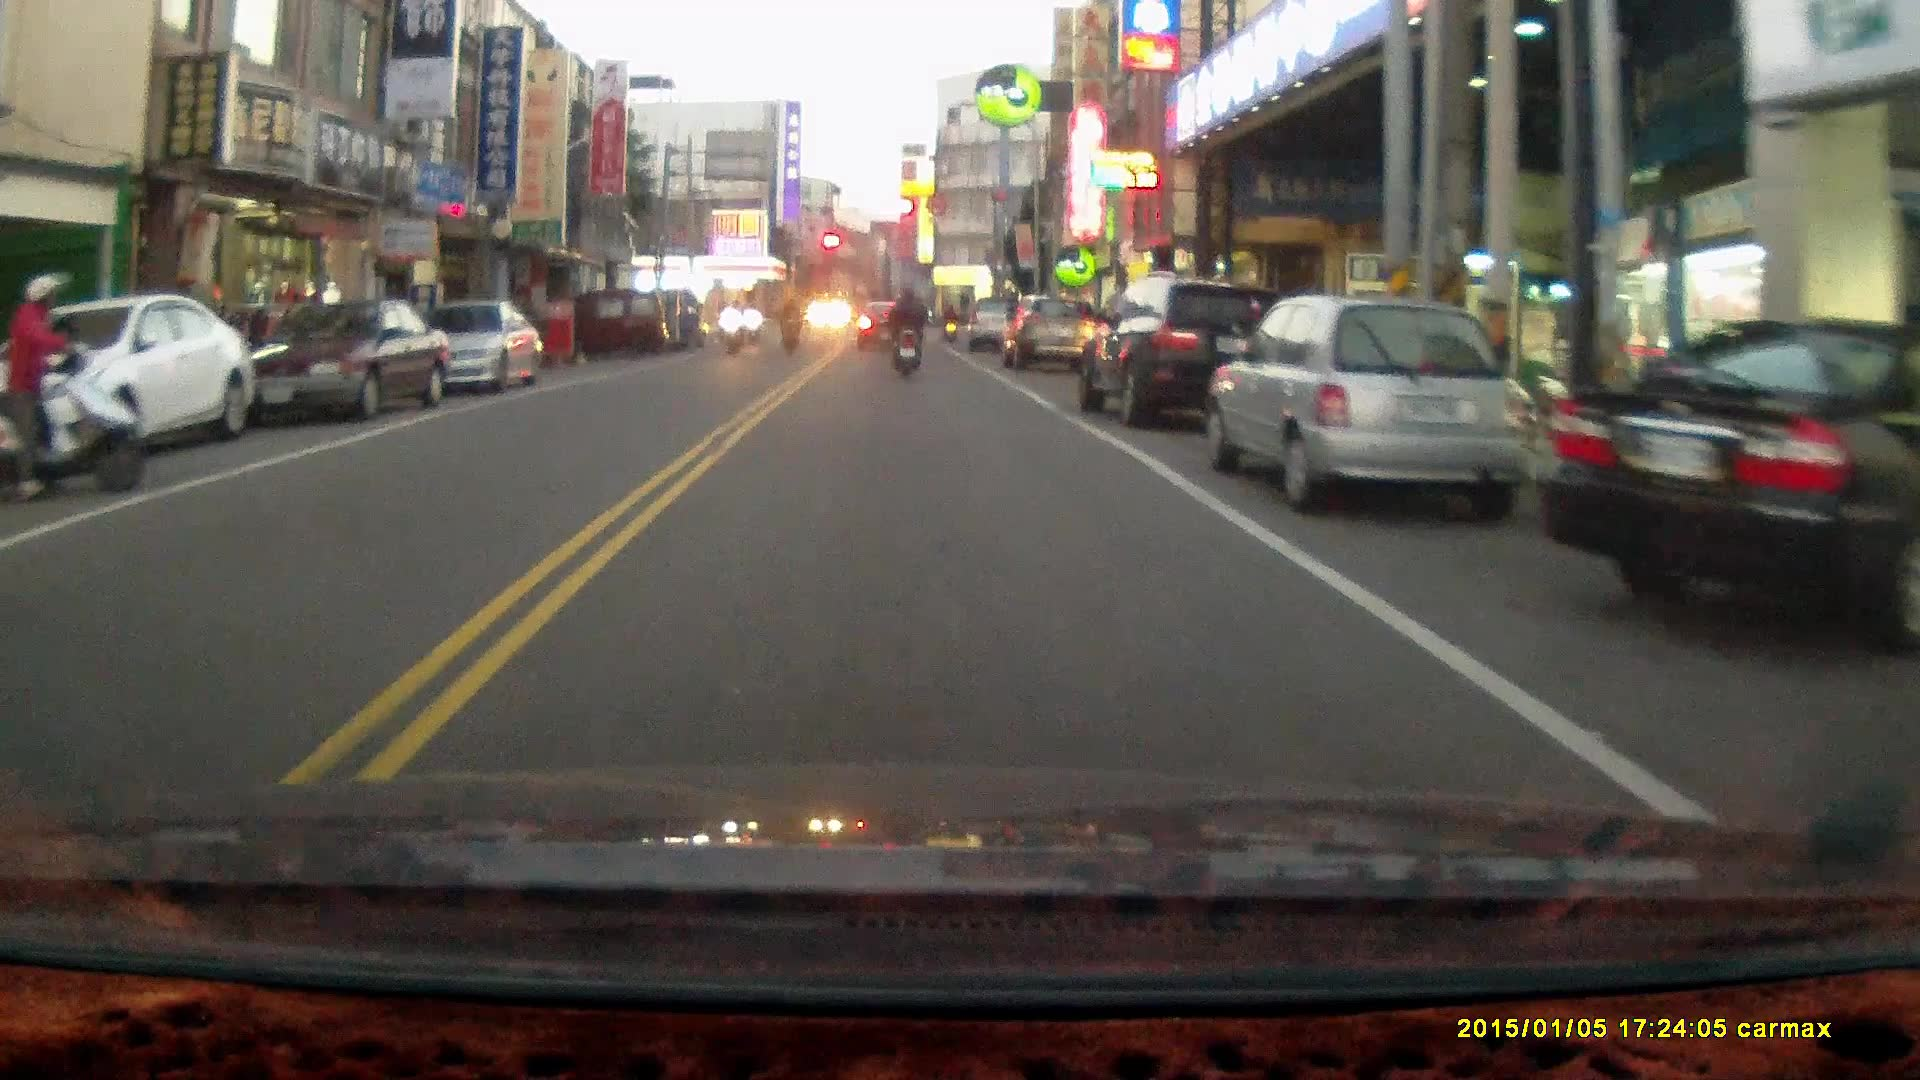rider: (2, 268, 146, 495), (883, 283, 924, 378), (776, 298, 803, 352), (721, 295, 746, 353), (739, 295, 763, 347), (937, 298, 959, 342)
vehicle: (1541, 305, 1920, 654), (1197, 297, 1533, 513), (3, 286, 268, 469), (1074, 275, 1289, 431), (217, 295, 449, 421), (405, 296, 545, 398), (1005, 291, 1094, 367), (586, 291, 667, 358), (967, 294, 1032, 351)
